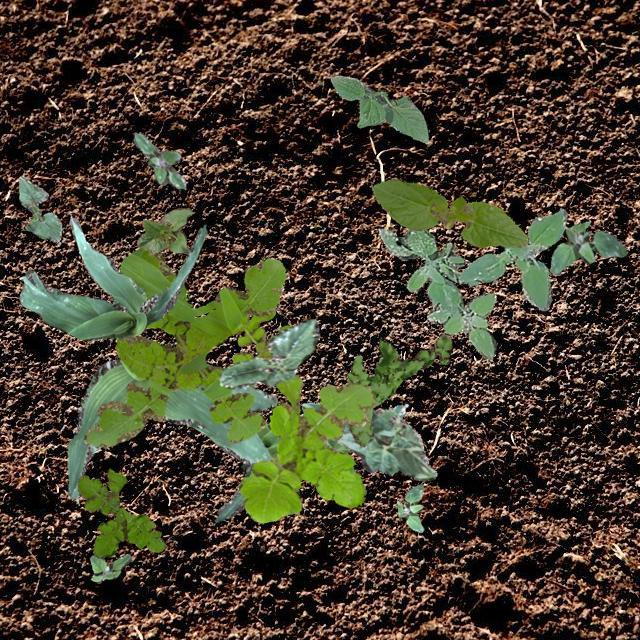crop: (66, 354, 276, 498), (194, 402, 406, 520), (18, 217, 205, 341), (300, 402, 436, 479), (372, 178, 526, 246), (218, 318, 318, 388), (330, 74, 428, 142), (18, 174, 60, 242), (136, 206, 192, 252)
weed: (82, 248, 286, 447), (378, 208, 566, 360), (238, 382, 374, 522), (346, 334, 450, 446), (76, 468, 166, 556), (229, 310, 303, 414), (550, 220, 626, 274), (132, 132, 186, 188), (397, 484, 422, 532), (89, 552, 130, 580)
